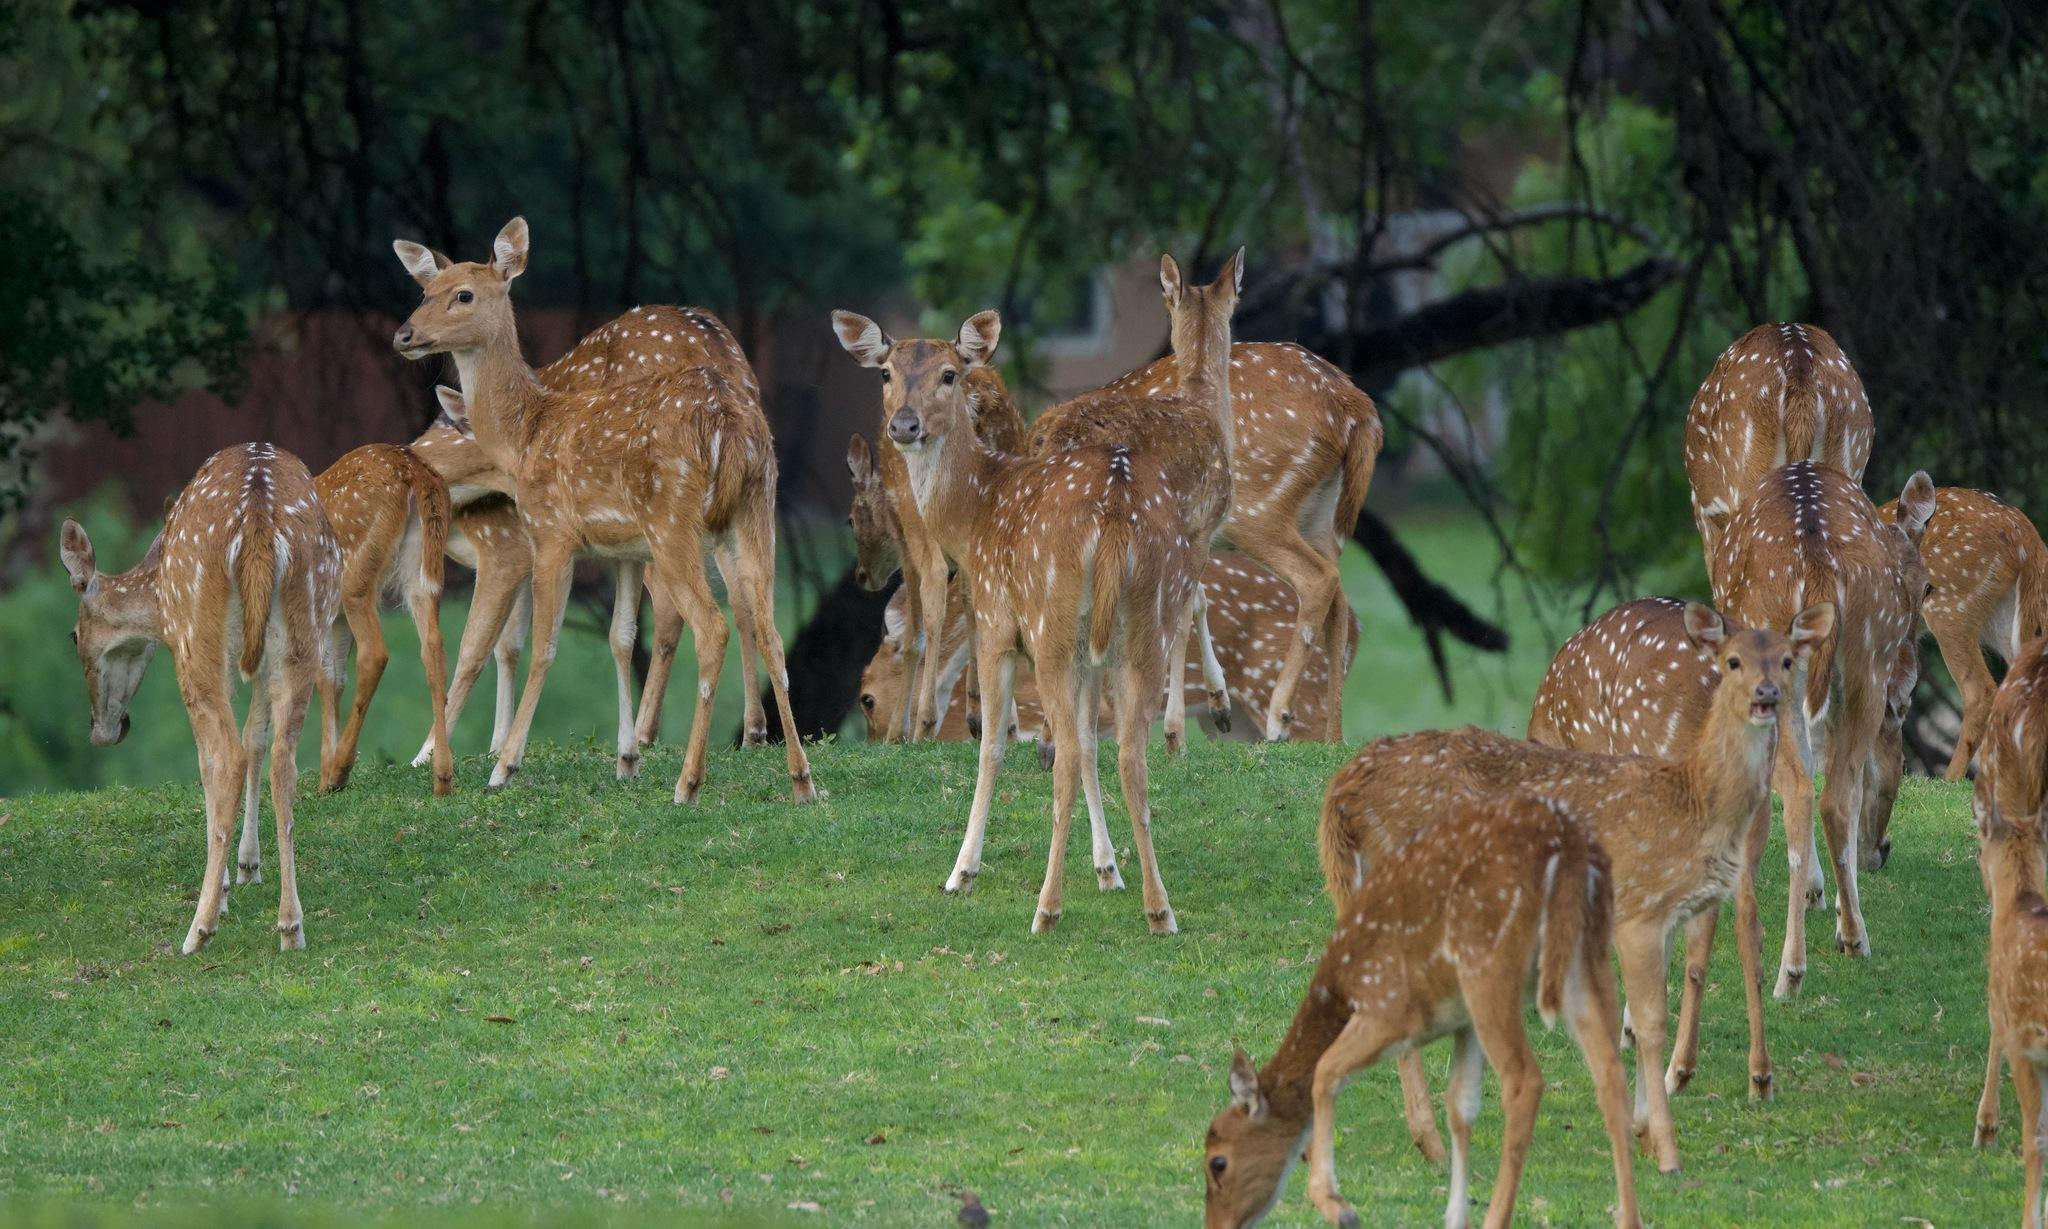Deer: (1322, 601, 1836, 1170), (394, 217, 813, 803), (832, 312, 1189, 933), (1204, 793, 1638, 1228), (61, 442, 342, 952), (1706, 459, 1934, 955), (1226, 342, 1382, 739), (1881, 473, 2047, 778), (315, 443, 453, 794), (1684, 323, 1872, 575), (1529, 597, 1720, 756), (535, 304, 756, 402), (846, 435, 942, 638), (1160, 252, 1241, 474), (859, 585, 911, 740)
